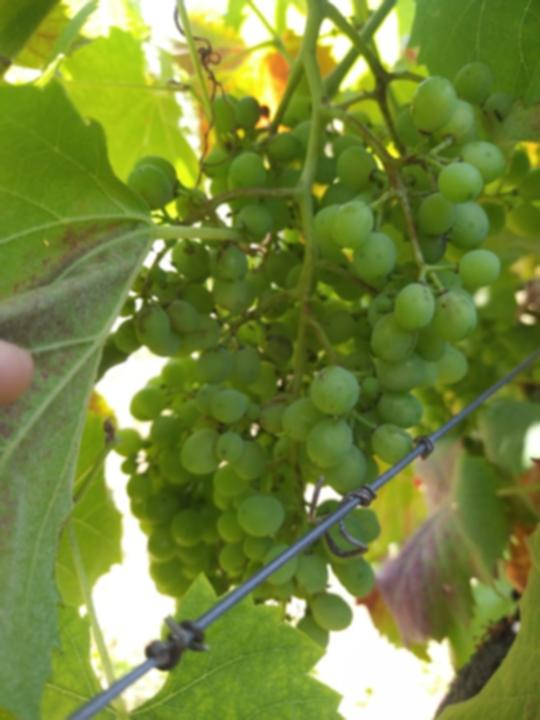grape: (113, 60, 517, 652)
